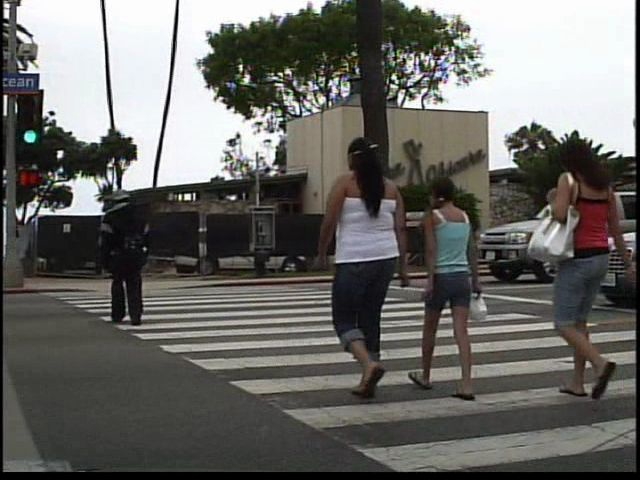person: (312, 125, 424, 398), (551, 135, 637, 411), (420, 170, 494, 406), (94, 182, 160, 334)
